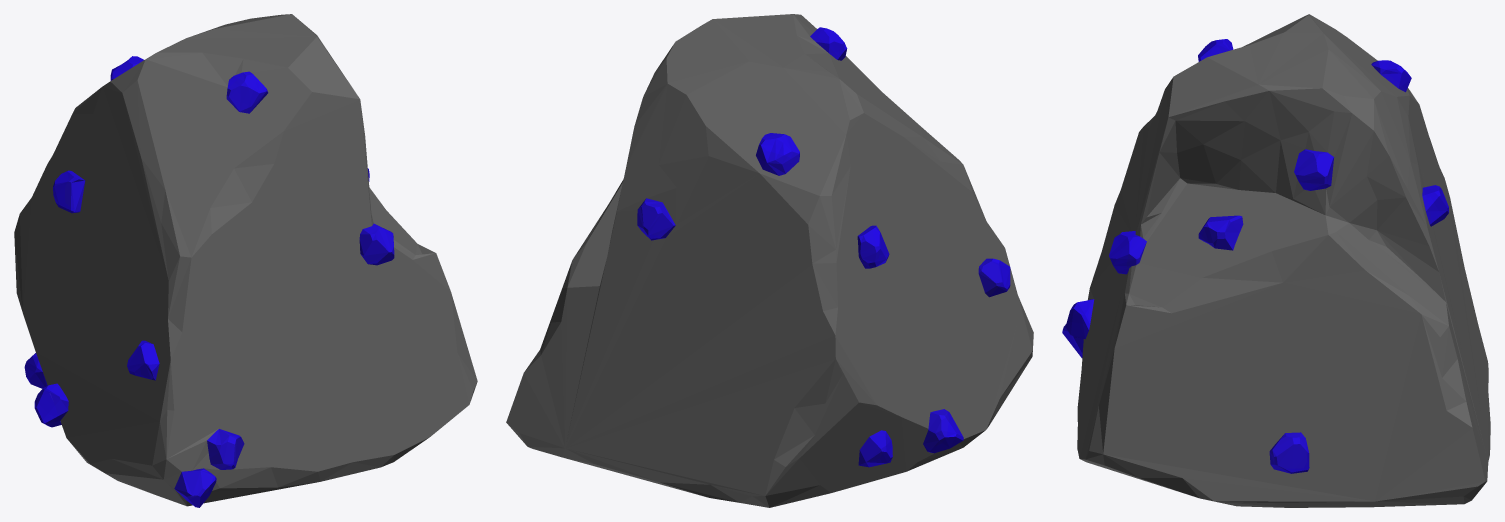
The model's file is StoneWithMaterial.fbx.
3 views of the same model, side by side, from view 1: azimuth 30°, elevation 25°; view 2: azimuth 150°, elevation 25°; view 3: azimuth 270°, elevation 25° (orthographic). The views are drawn at different scales.
Visible parts, largest first — view 1: StoneWithPoroda; view 2: StoneWithPoroda; view 3: StoneWithPoroda.
Part boxes in pixels (x1,y1,x2,y2): StoneWithPoroda: (14, 14, 477, 507); StoneWithPoroda: (506, 14, 1033, 507); StoneWithPoroda: (1062, 14, 1490, 507).
Size of the model in its own units: 209 by 200 by 204.
